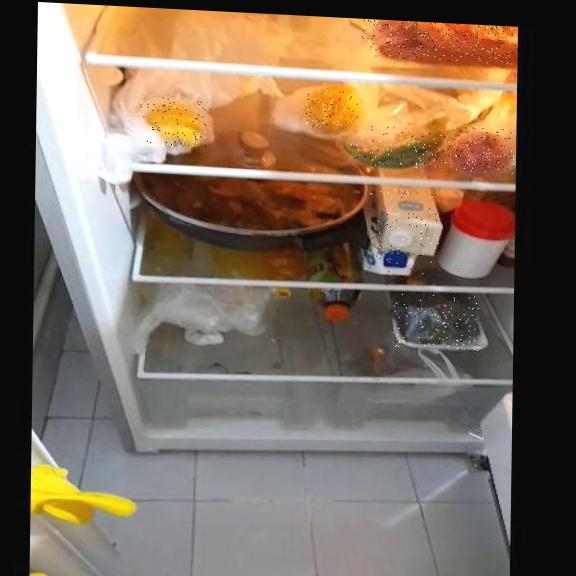broccoli: (393, 292, 479, 351)
carrot: (361, 19, 518, 65)
green chilies: (350, 125, 455, 170)
lemon: (138, 96, 207, 148), (306, 88, 362, 132)
milk: (363, 188, 439, 279)
tomato: (452, 127, 515, 174)
